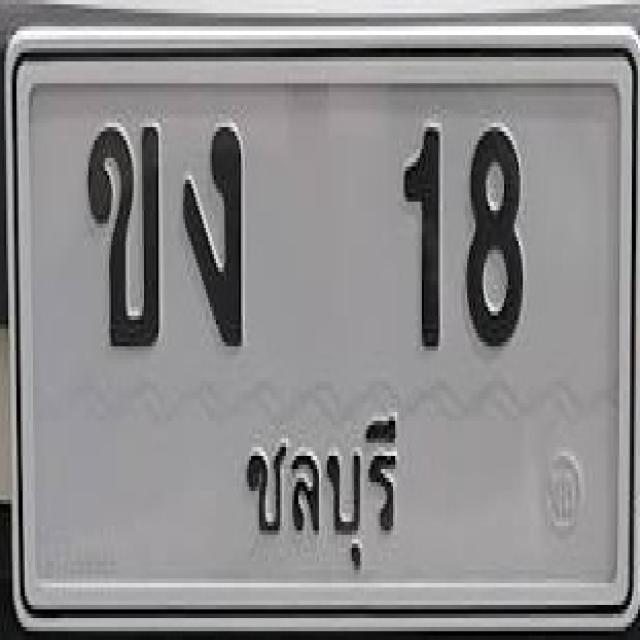license_plate: (2, 26, 640, 636)
